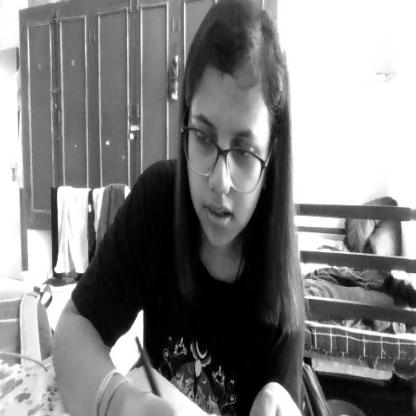Distracted: (178, 6, 286, 250)
